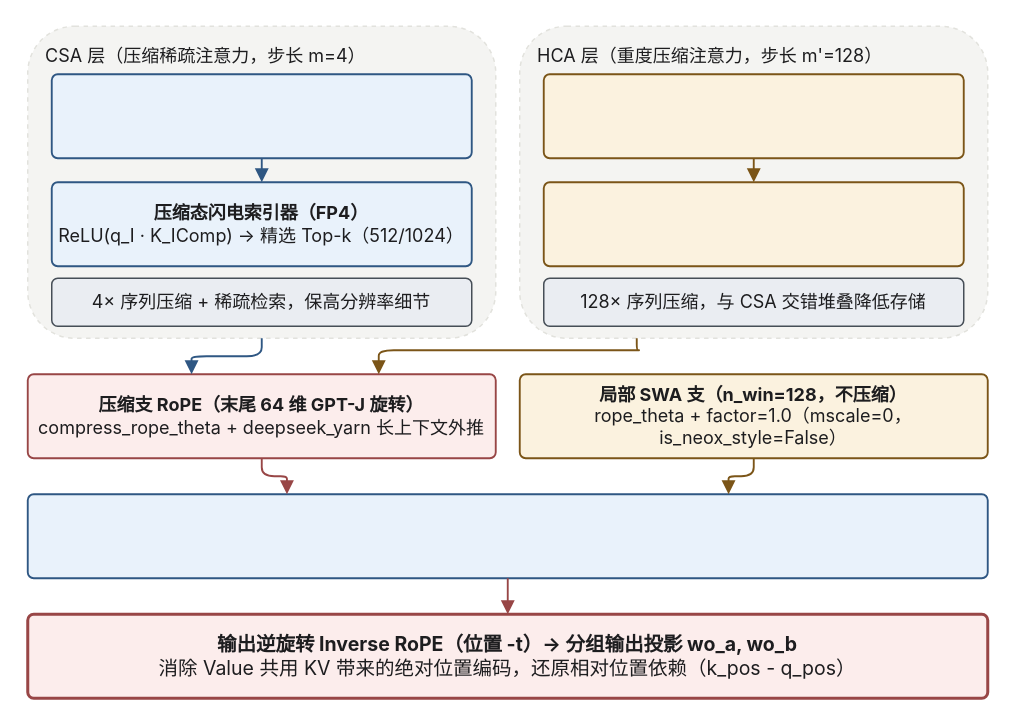
Image size: 1014x726. Some labels were removed from this diagram. The shapes that lost their labels are listed below. From the top down, each one's centre as x and y in pixels, then its label:
At point 261,116: "双窗重叠门控折块（2m=8 → 1） Ca, Cb + 门控 Za, Zb + 位置偏置 Ba, Bb".
At point 753,116: "单窗非重叠门控折块（m'=128 → 1） C = HW_KV, Z = HW_Z + 偏置 B 逐维 Softmax".
At point 753,224: "无索引器・全块稠密注意力 1M 上下文仅约 7,812 块，直接全读无漏选风险".
At point 507,536: "Shared KV MQA 核心注意力 + Attention Sink Q 与 KV 均经 RMSNorm；同一条目兼作 Key 与 Value".
